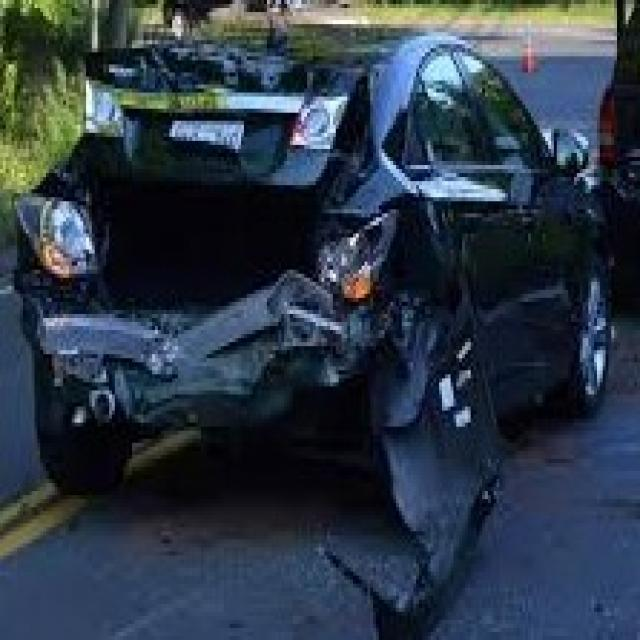minor: (20, 0, 459, 443)
